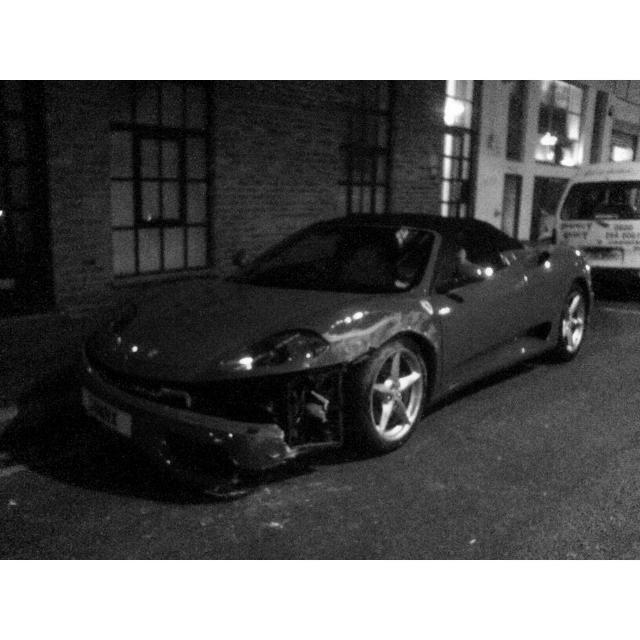fender-dent: (325, 303, 440, 364)
front-bumper-dent: (88, 368, 309, 463)
